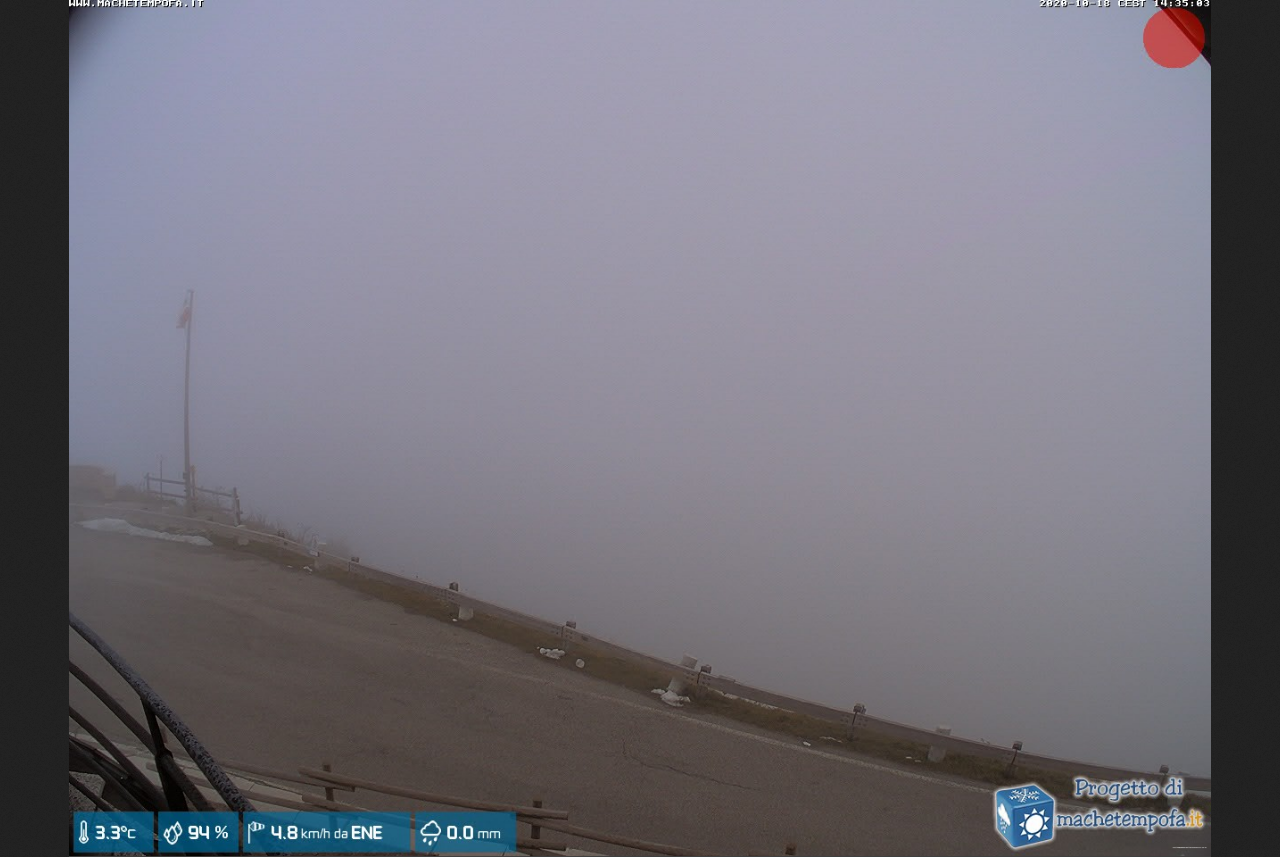no: (175, 287, 195, 334)
